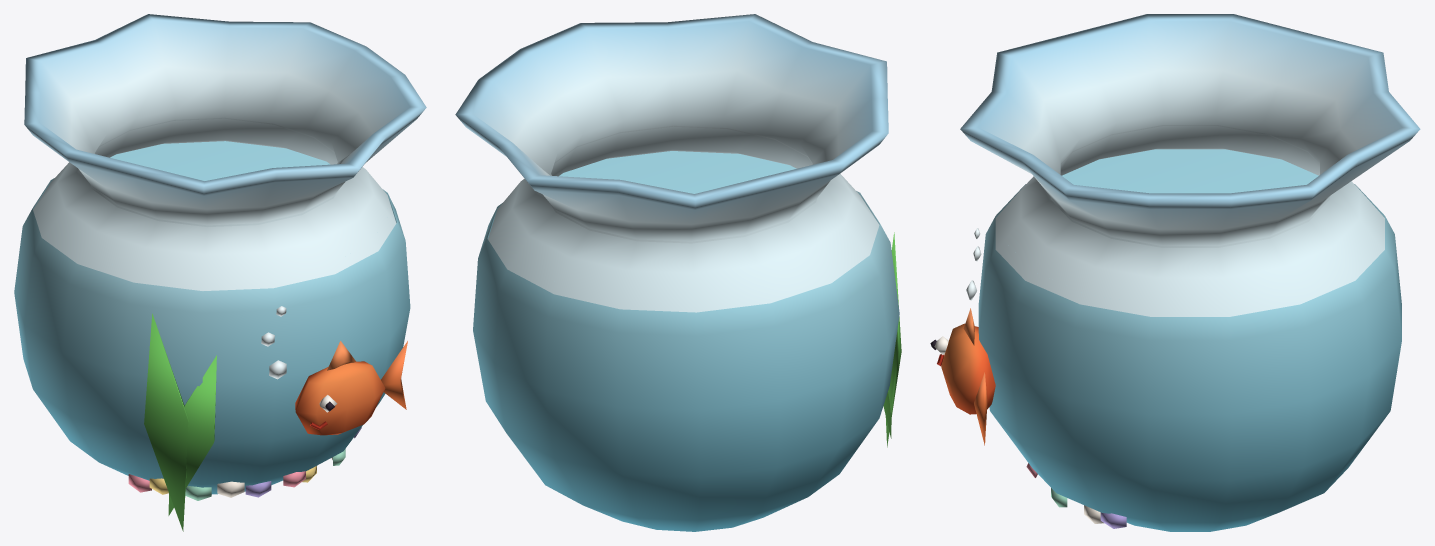
The model's file is furn-goldfishBowl.glb.
The picture shows the model from 3 angles, left to right: view 1: azimuth 30°, elevation 25°; view 2: azimuth 150°, elevation 25°; view 3: azimuth 270°, elevation 25°; orthographic projection. The views are drawn at different scales.
Parts seen in each view (by area): view 1: furn-goldfishBowl; view 2: furn-goldfishBowl; view 3: furn-goldfishBowl.
Boxes of the visible parts, box(x1,y1,x2,y2) form: furn-goldfishBowl: box(14, 14, 426, 531); furn-goldfishBowl: box(455, 14, 901, 531); furn-goldfishBowl: box(930, 14, 1420, 531).
Size of the model in its own units: 0.2987 by 0.2977 by 0.3407.
